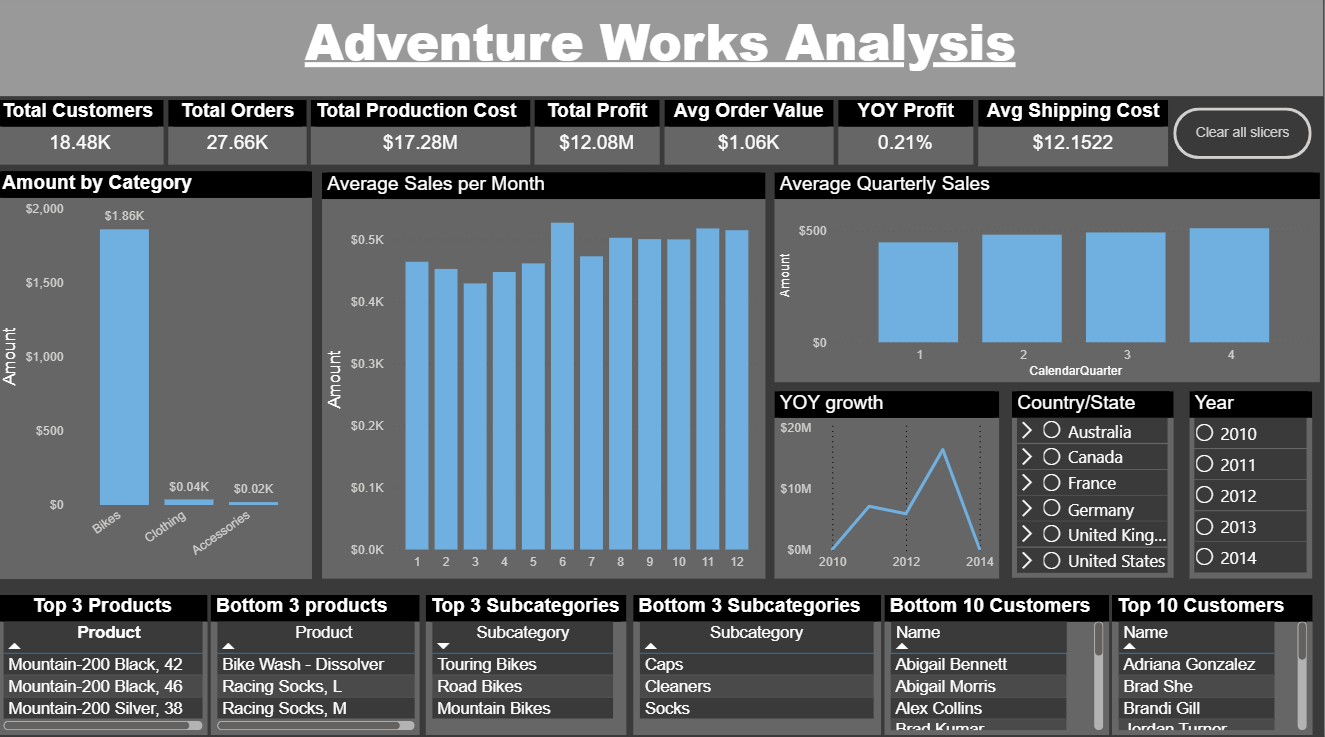

The page's visual inventory and layout, read from the dashboard file:
{"tool":"powerbi","page":{"name":"Page 1","canvas":[1280,720],"ordinal":0},"visuals":[{"type":"card","title":"Total Customers","fields":{"Values":["Dim_Customer.CustomerKey"]},"box":[0,101.3,160.5,62.7],"z":0},{"type":"card","title":"Total Orders","fields":{"Values":["Fact_InternetSales.SalesOrderNumber"]},"box":[165.3,101.3,133.9,62.7],"z":1000},{"type":"textbox","box":[0,4.8,1280,92.9],"z":2000},{"type":"card","title":"Total Production Cost","fields":{"Values":["Fact_InternetSales.TotalProductCost"]},"box":[302.8,101.3,212.3,62.7],"z":3000},{"type":"card","title":"Total Profit","fields":{"Values":["Fact_InternetSales.Profit"]},"box":[518.8,101.3,120.6,62.7],"z":4000},{"type":"card","title":"Avg Order Value","fields":{"Values":["Dim_Customer.Average_Order_Value"]},"box":[644.2,101.3,162.9,62.7],"z":5000},{"type":"card","title":"YOY Profit","fields":{"Values":["Measure.YoY Profit Growth %"]},"box":[811.9,101.3,130.3,62.7],"z":6000},{"type":"tableEx","title":"Top 3 Products","fields":{"Values":["Dim_Product.ProductName"]},"box":[0,578.5,203.4,135.6],"z":7000},{"type":"columnChart","fields":{"Category":["Dim_ProductCategory.ProductCategoryName","Dim_ProductSubcategory.ProductSubcategoryName","Dim_Product.ProductName"],"Y":["Fact_InternetSales.SalesAmount"]},"box":[0,170.1,304,393.3],"z":8000},{"type":"lineChart","title":"YOY growth","fields":{"Category":["Dim_Date.CalendarYear","Dim_Date.CalendarQuarter"],"Y":["Fact_InternetSales.SalesAmount"]},"box":[750.4,382.4,217.2,181],"z":9000},{"type":"tableEx","title":"Top 3 Subcategories","fields":{"Values":["Dim_ProductSubcategory.ProductSubcategoryName"]},"box":[414.1,578.5,193.3,135.6],"z":10000},{"type":"columnChart","title":"Average Sales per Month","fields":{"Category":["Dim_Date.MonthNumberOfYear"],"Y":["Fact_InternetSales.SalesAmount"]},"box":[313.7,171.3,428.3,392.1],"z":11000},{"type":"columnChart","title":"Average Quarterly Sales","fields":{"Category":["Dim_Date.CalendarQuarter"],"Y":["Fact_InternetSales.SalesAmount"]},"box":[750.4,171.3,526,202.7],"z":12000},{"type":"listSlicer","fields":{"Values":["Dim_Date.CalendarYear"]},"box":[1150.9,382.4,118.2,181],"z":13000},{"type":"card","title":"Avg Shipping Cost","fields":{"Values":["Fact_InternetSales.Freight"]},"box":[947.1,101.3,183.4,63.9],"z":14000},{"type":"tableEx","title":"Top 10 Customers","fields":{"Values":["Dim_Customer.Name"]},"box":[1076.3,578.5,193.3,135.6],"z":15000},{"type":"actionButton","box":[1135.3,108.7,133.7,49.9],"z":16000},{"type":"tableEx","title":"Bottom 3 products","fields":{"Values":["Dim_Product.ProductName"]},"box":[206.3,578.5,202,135.6],"z":17000},{"type":"tableEx","title":"Bottom 3 Subcategories","fields":{"Values":["Dim_ProductSubcategory.ProductSubcategoryName"]},"box":[614.6,578.5,239.5,135.6],"z":18000},{"type":"tableEx","title":"Bottom 10 Customers","fields":{"Values":["Dim_Customer.Name"]},"box":[857,578.5,216.4,135.6],"z":19000},{"type":"listSlicer","title":"Country/State","fields":{"Values":["Dim_Geography.CountryName","Dim_Geography.StateName"]},"box":[979.6,382.3,155.8,180.3],"z":20000}]}

Visuals, with their boxes in screenshot pixels (x1, y1, x2, y2), scaled from the page's 1280x720 canvas onto the 1325x737 screenshot:
"Total Customers" card: (left=0, top=104, right=166, bottom=168)
"Total Orders" card: (left=171, top=104, right=310, bottom=168)
textbox: (left=0, top=5, right=1324, bottom=100)
"Total Production Cost" card: (left=313, top=104, right=533, bottom=168)
"Total Profit" card: (left=537, top=104, right=662, bottom=168)
"Avg Order Value" card: (left=667, top=104, right=835, bottom=168)
"YOY Profit" card: (left=840, top=104, right=975, bottom=168)
"Top 3 Products" tableEx: (left=0, top=592, right=211, bottom=731)
columnChart - Dim_ProductCategory.ProductCategoryName x Dim_ProductSubcategory.ProductSubcategoryName: (left=0, top=174, right=315, bottom=577)
"YOY growth" lineChart: (left=777, top=391, right=1002, bottom=577)
"Top 3 Subcategories" tableEx: (left=429, top=592, right=629, bottom=731)
"Average Sales per Month" columnChart: (left=325, top=175, right=768, bottom=577)
"Average Quarterly Sales" columnChart: (left=777, top=175, right=1321, bottom=383)
listSlicer - Dim_Date.CalendarYear: (left=1191, top=391, right=1314, bottom=577)
"Avg Shipping Cost" card: (left=980, top=104, right=1170, bottom=169)
"Top 10 Customers" tableEx: (left=1114, top=592, right=1314, bottom=731)
actionButton: (left=1175, top=111, right=1314, bottom=162)
"Bottom 3 products" tableEx: (left=214, top=592, right=423, bottom=731)
"Bottom 3 Subcategories" tableEx: (left=636, top=592, right=884, bottom=731)
"Bottom 10 Customers" tableEx: (left=887, top=592, right=1111, bottom=731)
"Country/State" listSlicer: (left=1014, top=391, right=1175, bottom=576)
